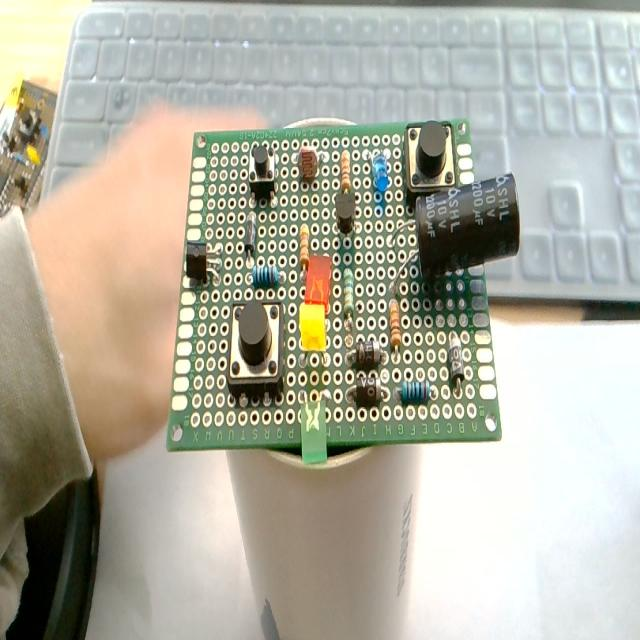Electrolytic capacitor: (414, 172, 522, 278)
cds: (298, 146, 317, 182)
diode: (346, 377, 388, 409), (346, 340, 384, 369), (448, 331, 464, 386), (243, 210, 256, 267)
led: (299, 398, 328, 467), (366, 142, 392, 206), (304, 253, 332, 312), (298, 300, 327, 352)
resistor: (394, 380, 432, 406), (252, 262, 282, 287), (389, 300, 402, 348), (343, 268, 354, 322), (299, 223, 309, 270), (341, 150, 350, 192)
switch: (225, 297, 285, 405), (404, 120, 455, 196), (248, 143, 276, 204)
transistor: (185, 240, 223, 286), (334, 193, 361, 243)
